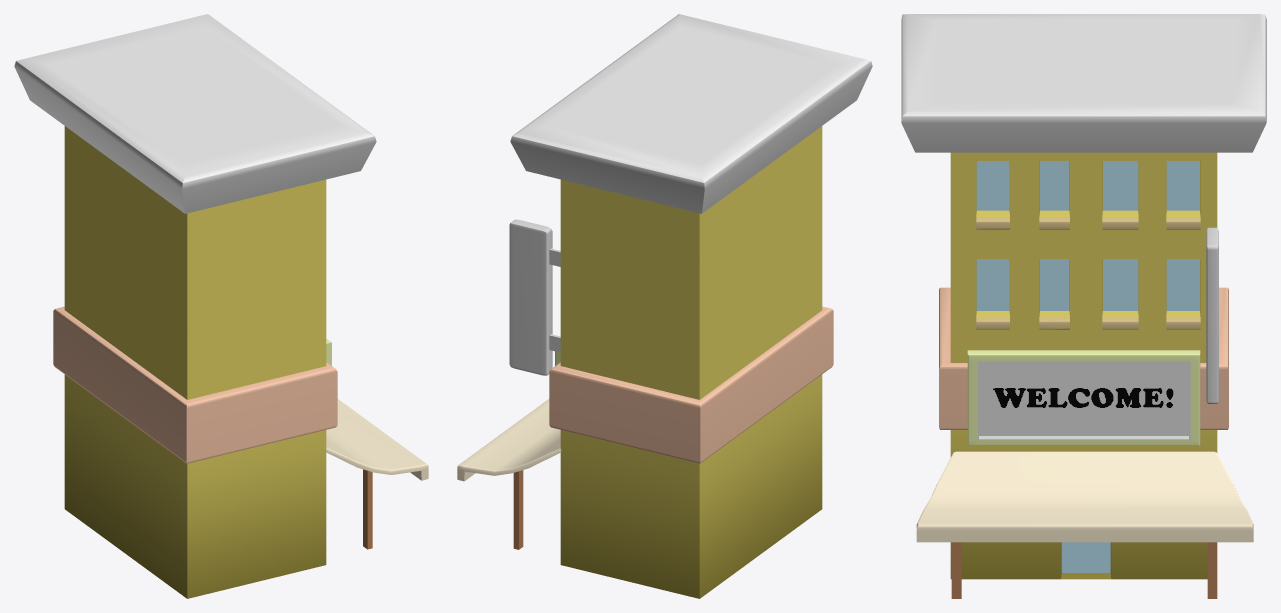
Rendered from BuildingShort_03.fbx.
The picture shows the model from 3 angles, left to right: view 1: azimuth 30°, elevation 25°; view 2: azimuth 150°, elevation 25°; view 3: azimuth 270°, elevation 25°; orthographic projection. The views are drawn at different scales.
Visible parts, largest first — view 1: polySurface830; view 2: polySurface830; view 3: polySurface830.
Boxes of the visible parts, box(x1,y1,x2,y2) form: polySurface830: box(14, 14, 428, 598); polySurface830: box(457, 14, 872, 598); polySurface830: box(901, 14, 1266, 598).
Size of the model in its own units: 5.5 by 9.15 by 6.31.
